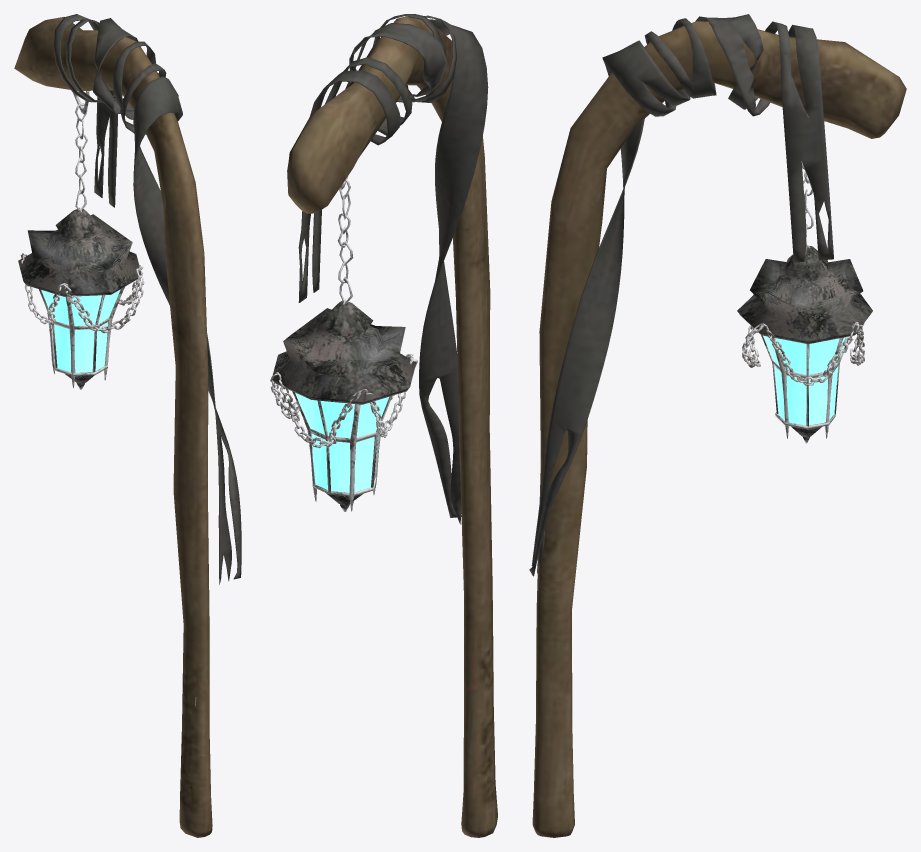
Rendered from item.light.provisional_verdant_lumen.glb.
3 renders of one model, left to right at view 1: azimuth 30°, elevation 25°; view 2: azimuth 150°, elevation 25°; view 3: azimuth 270°, elevation 25°, orthographic. The views are drawn at different scales.
Parts seen in each view (by area): view 1: lantern; view 2: lantern; view 3: lantern.
Part boxes in pixels (box(x1,y1,x2,y2)): lantern: box(14, 14, 241, 837); lantern: box(270, 14, 497, 837); lantern: box(529, 14, 906, 837).
Size of the model in its own units: 0.1895 by 1.2 by 0.5031.
Materials: 1 (1 with a texture image).
